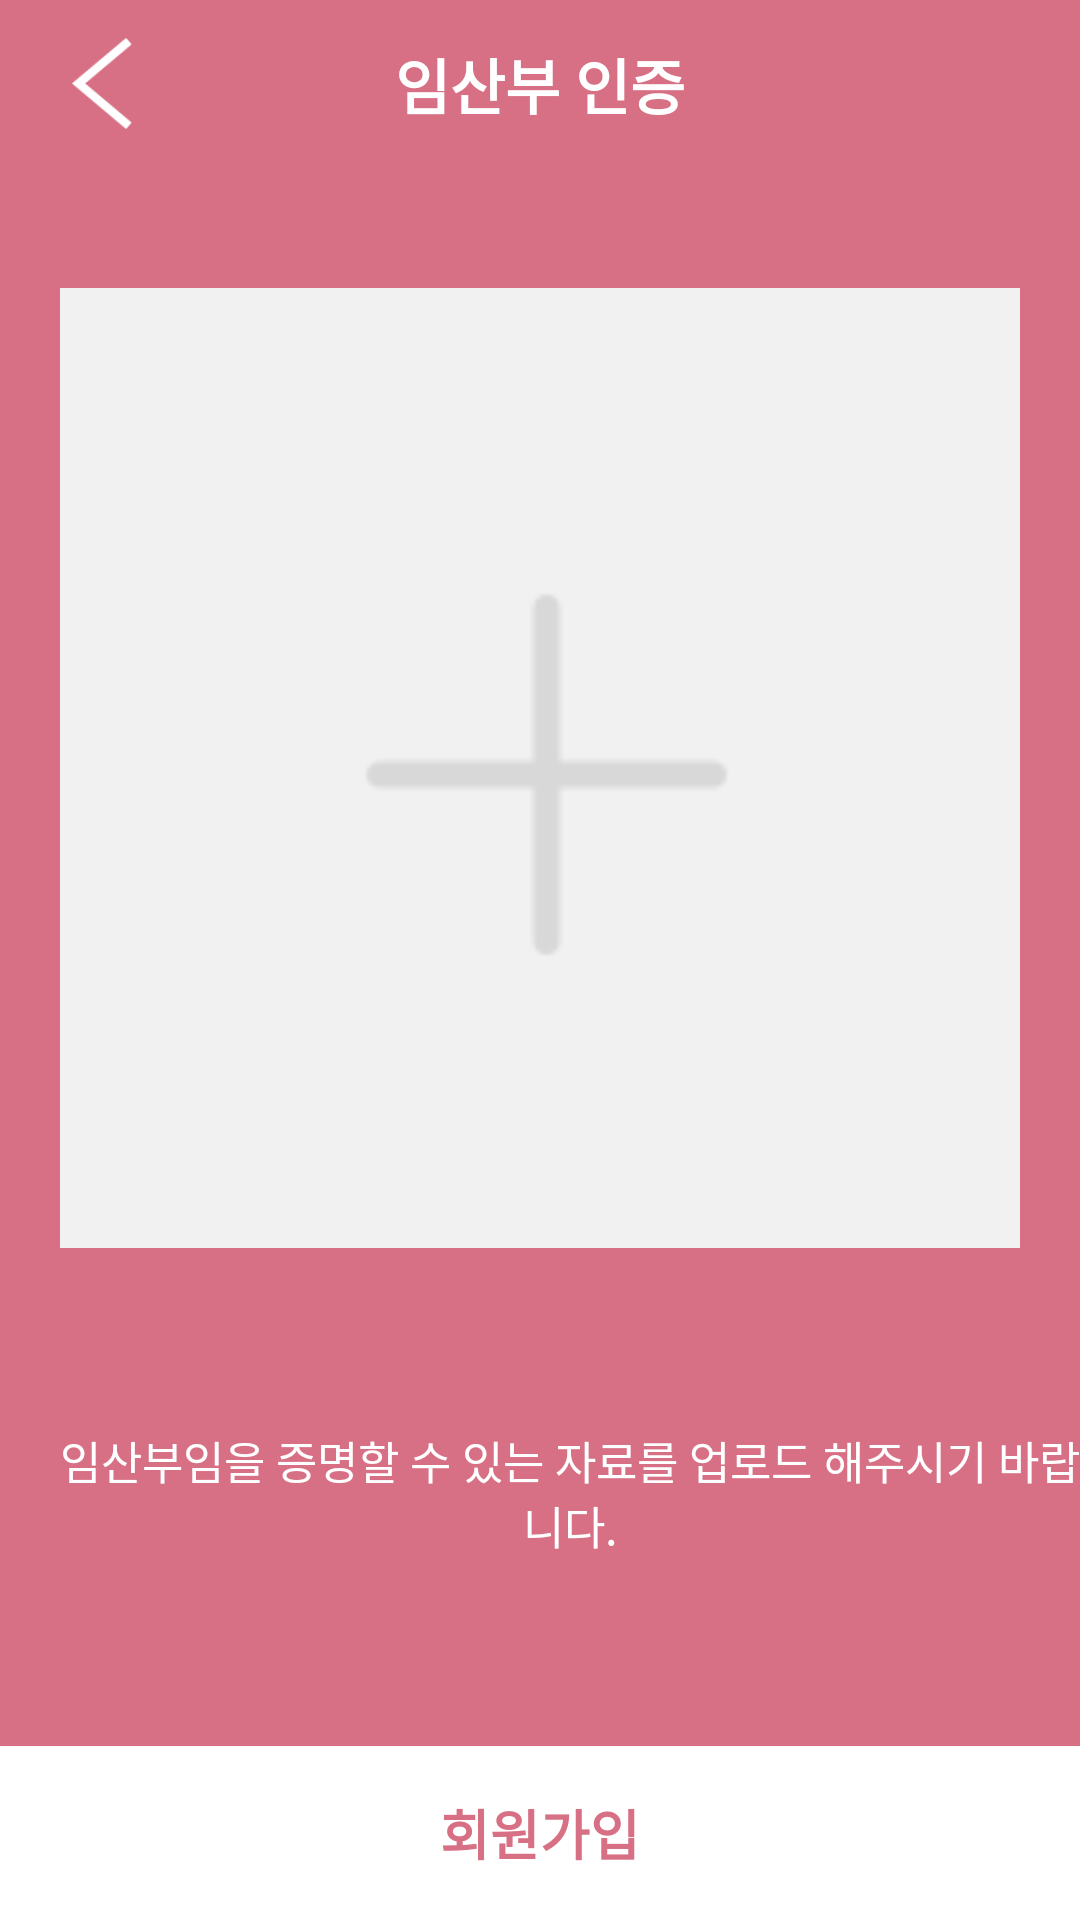

Named icons in this screenshot (1080 x 1920) and their centers, point (x, y):
back: point (102, 83)
